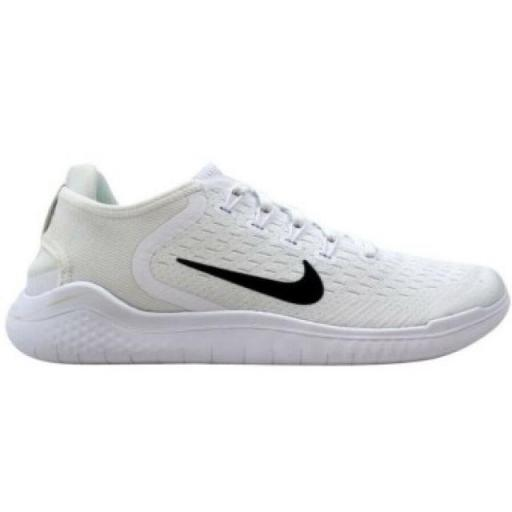Nike: (169, 250, 328, 312)
